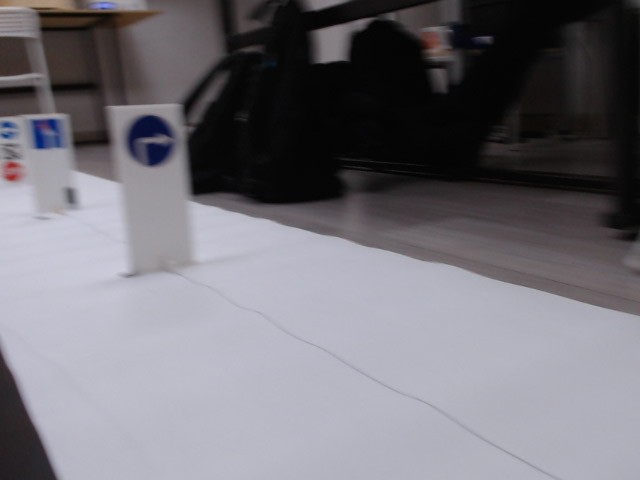Right: (127, 115, 175, 165)
